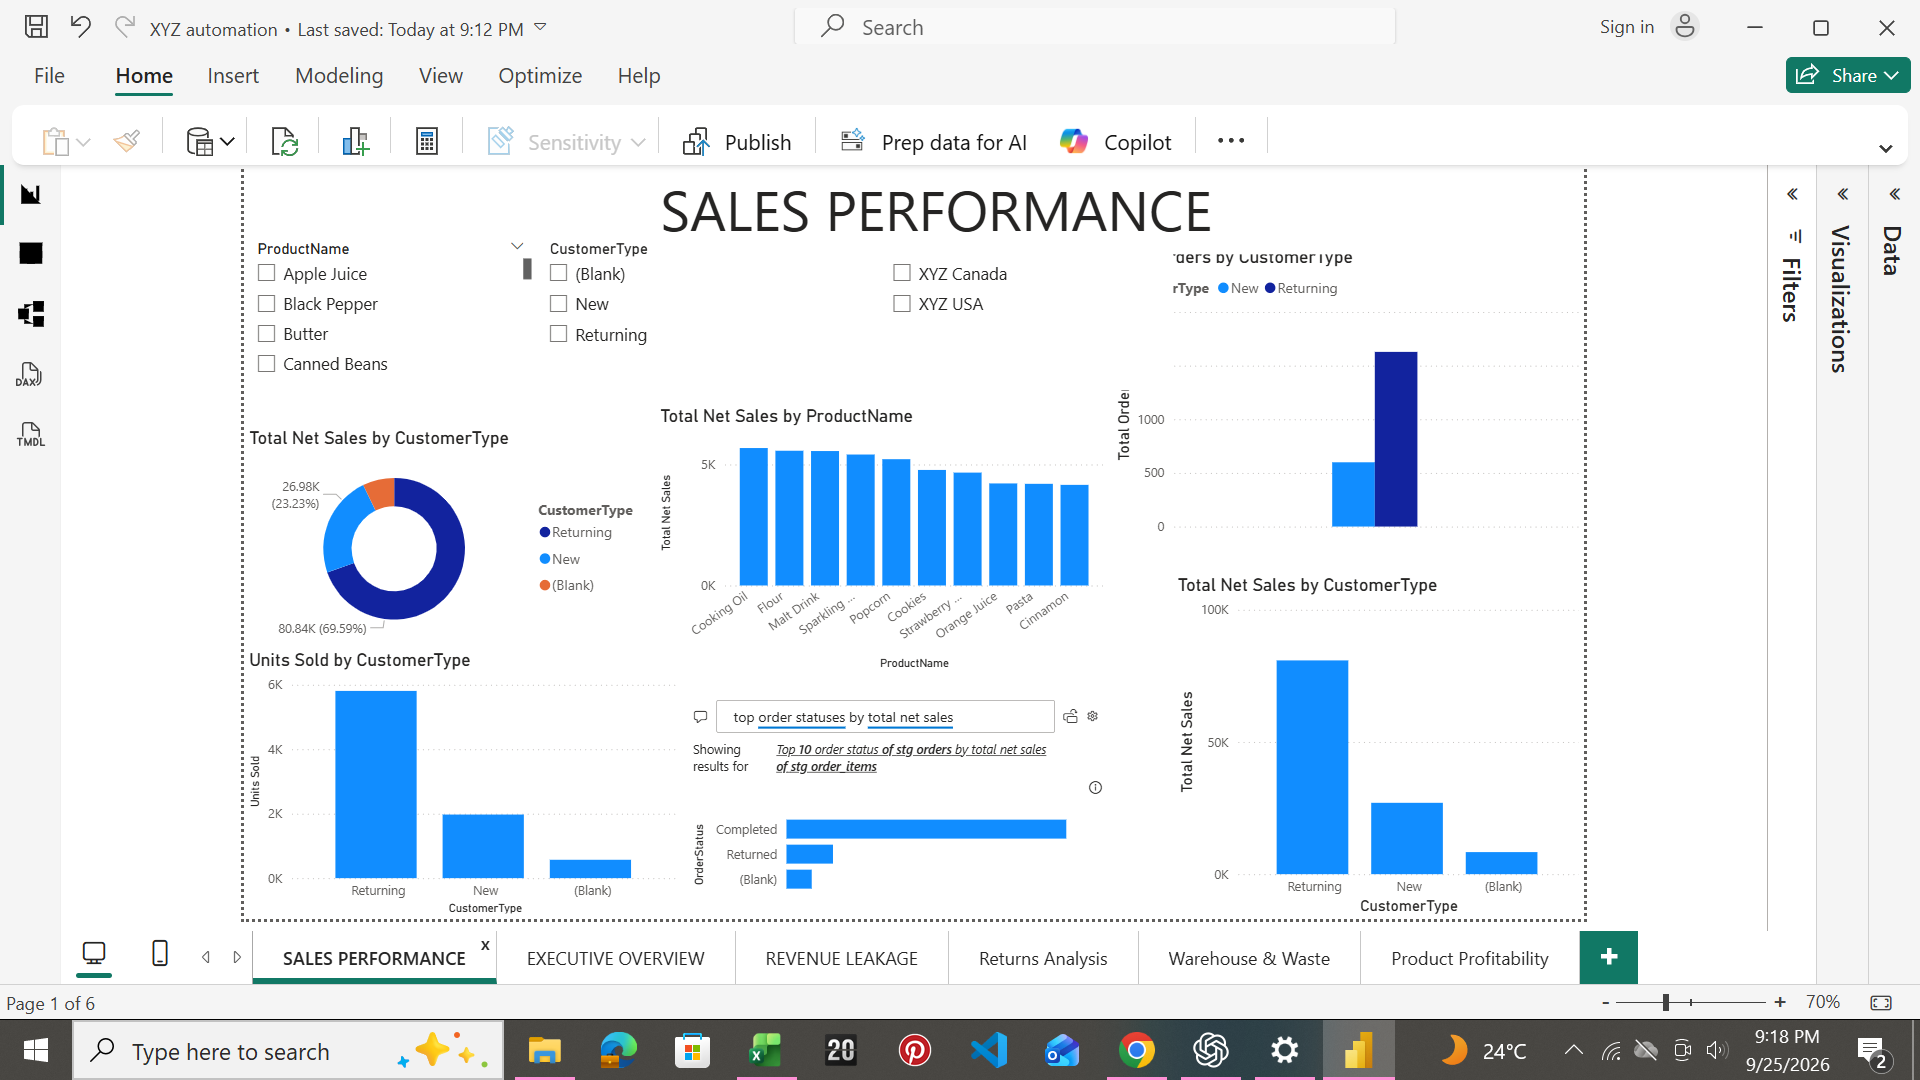

The page's visual inventory and layout, read from the dashboard file:
{"tool":"powerbi","page":{"name":"SALES PERFORMANCE","canvas":[1280,720],"ordinal":0},"visuals":[{"type":"columnChart","fields":{"Category":["stg customers.CustomerType"],"Y":["Table.Total Net Sales"]},"box":[886.3,391.2,393.1,328.8],"z":0},{"type":"clusteredColumnChart","fields":{"Y":["Table.Total Orders"],"Series":["stg customers.CustomerType"]},"box":[825.8,77.5,453.5,281.6],"z":1},{"type":"columnChart","fields":{"Category":["stg customers.CustomerType"],"Y":["Table.Units Sold"]},"box":[0,463,419.5,257],"z":2},{"type":"donutChart","fields":{"Category":["stg customers.CustomerType"],"Y":["Table.Total Net Sales"]},"box":[0,251.3,393.1,211.7],"z":3},{"type":"slicer","fields":{"Values":["stg branches.BranchName"]},"box":[606.6,66.1,279.7,149.3],"z":4},{"type":"columnChart","fields":{"Y":["Table.Total Net Sales"],"Category":["stg products.ProductName"]},"box":[393.1,228.7,432.8,257],"z":6},{"type":"slicer","fields":{"Values":["stg customers.CustomerType"]},"box":[279.7,66.1,279.7,149.3],"z":7},{"type":"slicer","fields":{"Values":["stg products.ProductName"]},"box":[0,66.1,279.7,149.3],"z":8},{"type":"textbox","box":[393.1,0,746.5,85],"z":9},{"type":"qnaVisual","box":[419.5,485.7,406.3,234.3],"z":10}]}

Visuals, with their boxes on the page's 1280x720 design canvas (x1, y1, x2, y2). These are canvas units, not pixel positions in the 1920x1080 screenshot, which may show the page scaled, cropped or inside an application window:
columnChart - stg customers.CustomerType x Table.Total Net Sales: detection(886, 391, 1279, 720)
clusteredColumnChart - Table.Total Orders x stg customers.CustomerType: detection(826, 78, 1279, 359)
columnChart - stg customers.CustomerType x Table.Units Sold: detection(0, 463, 420, 720)
donutChart - stg customers.CustomerType x Table.Total Net Sales: detection(0, 251, 393, 463)
slicer - stg branches.BranchName: detection(607, 66, 886, 215)
columnChart - Table.Total Net Sales x stg products.ProductName: detection(393, 229, 826, 486)
slicer - stg customers.CustomerType: detection(280, 66, 559, 215)
slicer - stg products.ProductName: detection(0, 66, 280, 215)
textbox: detection(393, 0, 1140, 85)
qnaVisual: detection(420, 486, 826, 720)
